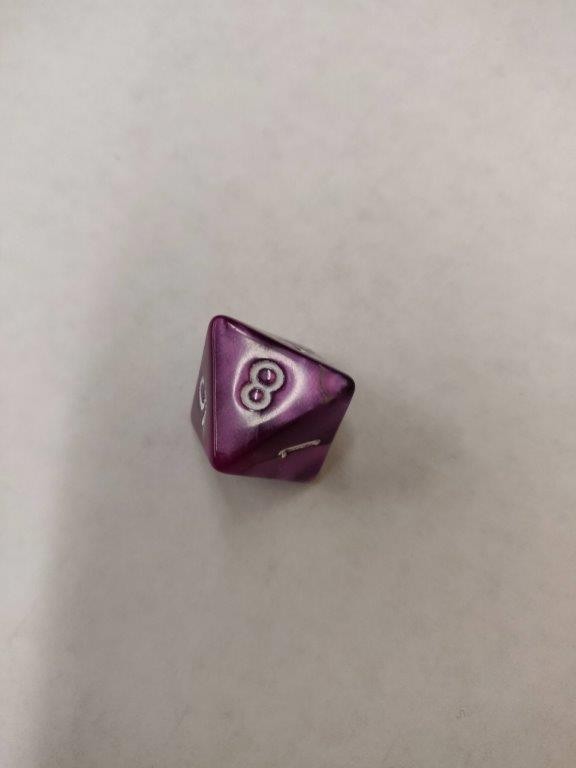d8-8: (190, 314, 357, 487)
